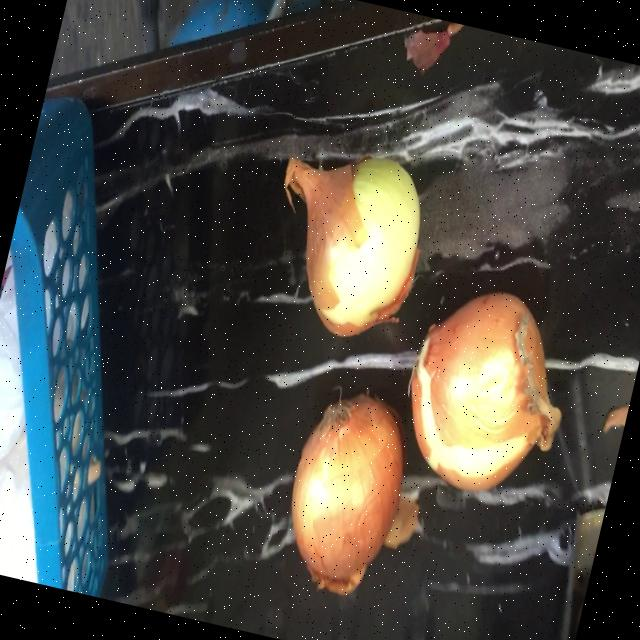Onion: (410, 292, 560, 490), (283, 156, 419, 335), (290, 393, 402, 594)
